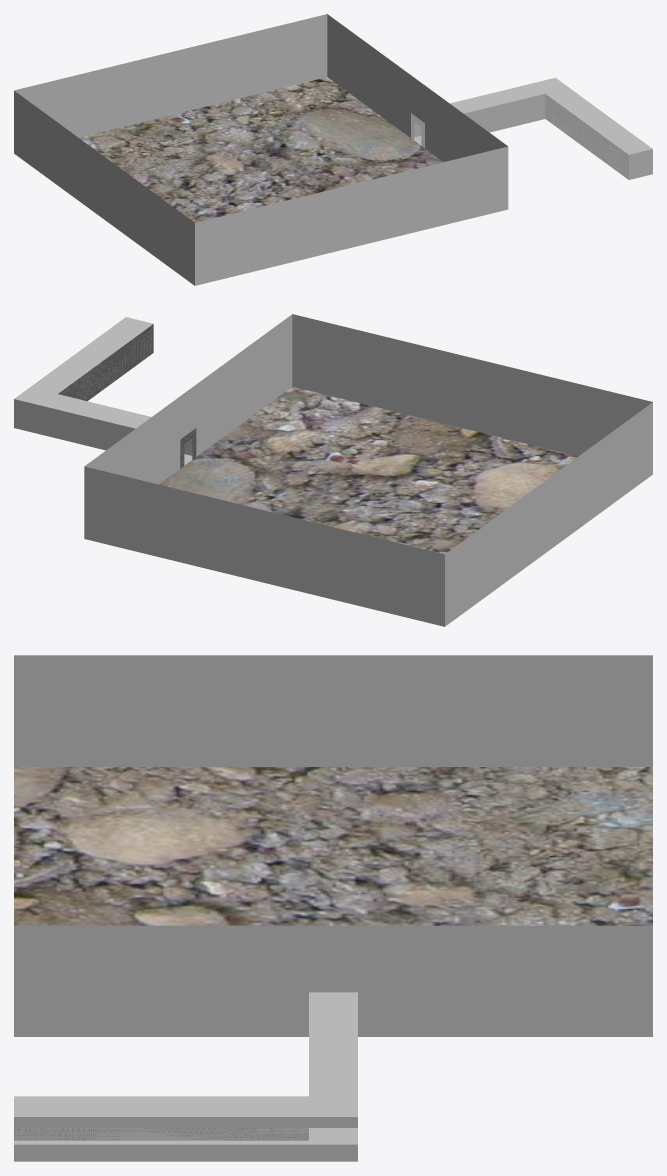
Rendered from castle_tex.obj.
3 renders of one model, top to bottom at view 1: azimuth 30°, elevation 25°; view 2: azimuth 150°, elevation 25°; view 3: azimuth 270°, elevation 25°, orthographic. The views are drawn at different scales.
Parts seen in each view (by area): view 1: courtyard1_Plane.021, wallCL_Plane.029, wallCR_Plane.030, wallCF_Plane.028, wallCC1_Plane.027, wallCC2_Plane.010, roof1_Plane.007, wall1.2_Plane.003, wall2.1_Plane.004, roof2_Plane.008, wallEND_Plane.026, wallCC3_Plane.020; view 2: courtyard1_Plane.021, wallCR_Plane.030, wallCL_Plane.029, wallCF_Plane.028, wallCC2_Plane.010, wallCC1_Plane.027, wallfar_Plane.023, roof1_Plane.007, wall1.2_Plane.003, roof2_Plane.008, wallCC3_Plane.020; view 3: courtyard1_Plane.021, wallCF_Plane.028, wallCC2_Plane.010, wallCC1_Plane.027, roof1_Plane.007, wall1.11_Plane.002, roof2_Plane.008, wall1.2_Plane.003, wall1.12_Plane.009, wallCC3_Plane.020, floor1_Plane.005.
Part boxes in pixels (<box>): courtyard1_Plane.021: <box>79,77,443,222</box>; wallCL_Plane.029: <box>195,146,508,285</box>; wallCR_Plane.030: <box>14,14,327,137</box>; wallCF_Plane.028: <box>14,91,194,285</box>; wallCC1_Plane.027: <box>327,14,410,137</box>; wallCC2_Plane.010: <box>425,85,507,161</box>; roof1_Plane.007: <box>531,77,652,154</box>; wall1.2_Plane.003: <box>545,94,628,179</box>; wall2.1_Plane.004: <box>464,94,545,132</box>; roof2_Plane.008: <box>450,83,544,113</box>; wallEND_Plane.026: <box>629,149,652,179</box>; wallCC3_Plane.020: <box>411,75,424,122</box>; courtyard1_Plane.021: <box>159,386,578,554</box>; wallCR_Plane.030: <box>84,466,444,626</box>; wallCL_Plane.029: <box>292,314,652,456</box>; wallCF_Plane.028: <box>445,402,652,626</box>; wallCC2_Plane.010: <box>196,314,292,456</box>; wallCC1_Plane.027: <box>84,396,180,484</box>; wallfar_Plane.023: <box>14,399,135,450</box>; roof1_Plane.007: <box>14,317,153,405</box>; wall1.2_Plane.003: <box>58,324,153,401</box>; roof2_Plane.008: <box>42,394,151,428</box>; wallCC3_Plane.020: <box>180,385,196,439</box>; courtyard1_Plane.021: <box>14,767,652,925</box>; wallCF_Plane.028: <box>14,655,652,766</box>; wallCC2_Plane.010: <box>14,925,308,1036</box>; wallCC1_Plane.027: <box>358,925,652,1036</box>; roof1_Plane.007: <box>14,1096,357,1116</box>; wall1.11_Plane.002: <box>14,1144,357,1161</box>; roof2_Plane.008: <box>309,992,357,1096</box>; wall1.2_Plane.003: <box>14,1128,308,1140</box>; wall1.12_Plane.009: <box>14,1117,357,1127</box>; wallCC3_Plane.020: <box>309,925,357,992</box>; floor1_Plane.005: <box>14,1140,357,1144</box>.
Size of the model in its own units: 152 by 20 by 104.
